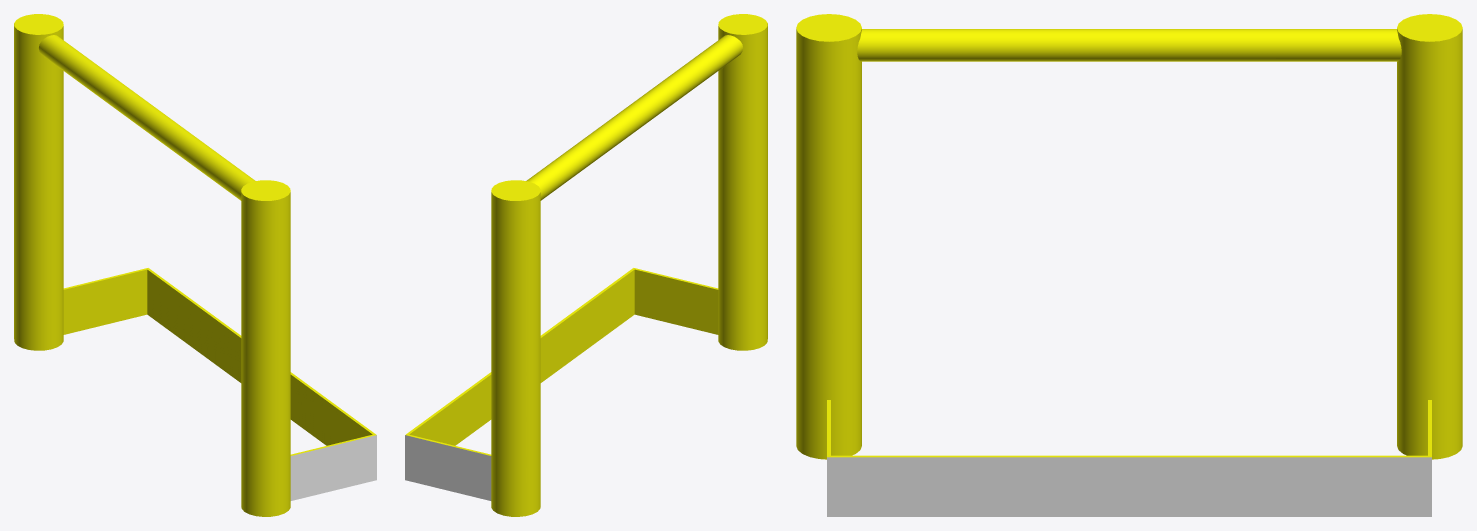
File: TallYellowGoal.obj
The picture shows the model from 3 angles, left to right: view 1: azimuth 30°, elevation 25°; view 2: azimuth 150°, elevation 25°; view 3: azimuth 270°, elevation 25°; orthographic projection. The views are drawn at different scales.
Parts seen in each view (by area): view 1: pCylinder3 group9 group8 group7, group9 group8 group7 pCylinder4, group9 group8 group7 pCube15, group9 group8 group7 pCylinder5, group9 group8 group7 pCube13, group9 group8 group7 pCube14; view 2: group9 group8 group7 pCylinder4, pCylinder3 group9 group8 group7, group9 group8 group7 pCube15, group9 group8 group7 pCylinder5, group9 group8 group7 pCube14, group9 group8 group7 pCube13; view 3: group9 group8 group7 pCube15, pCylinder3 group9 group8 group7, group9 group8 group7 pCylinder4, group9 group8 group7 pCylinder5.
Boxes of the visible parts, bbox=[...] form: pCylinder3 group9 group8 group7: bbox=[241, 180, 290, 516]; group9 group8 group7 pCylinder4: bbox=[14, 14, 63, 350]; group9 group8 group7 pCube15: bbox=[147, 268, 375, 445]; group9 group8 group7 pCylinder5: bbox=[39, 35, 255, 200]; group9 group8 group7 pCube13: bbox=[290, 434, 376, 500]; group9 group8 group7 pCube14: bbox=[63, 268, 149, 334]; group9 group8 group7 pCylinder4: bbox=[491, 180, 540, 516]; pCylinder3 group9 group8 group7: bbox=[718, 14, 767, 350]; group9 group8 group7 pCube15: bbox=[406, 268, 634, 445]; group9 group8 group7 pCylinder5: bbox=[526, 35, 742, 200]; group9 group8 group7 pCube14: bbox=[405, 434, 491, 500]; group9 group8 group7 pCube13: bbox=[633, 268, 718, 334]; group9 group8 group7 pCube15: bbox=[828, 455, 1429, 516]; pCylinder3 group9 group8 group7: bbox=[796, 14, 861, 459]; group9 group8 group7 pCylinder4: bbox=[1397, 14, 1462, 459]; group9 group8 group7 pCylinder5: bbox=[857, 29, 1401, 61].
Bounding box in the file's own units: 0.3057 × 0.7 × 1.01.
